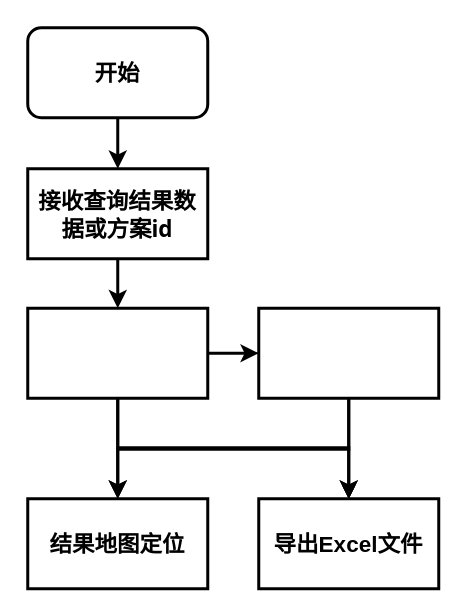
The diagram is 465 pixels wide and 615 high, and some of its shapes have lost their labels. The shapes that lost their labels are listed below. From the top down, each one's centre as x and y in pixels, then its label:
At (x=117, y=352): "纵向 展示 查询结果".
At (x=348, y=352): "二次过滤".
